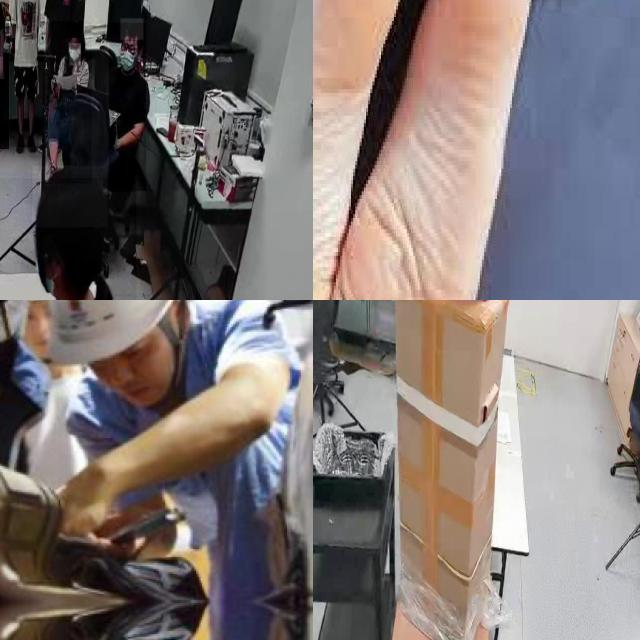Barefoots: (326, 0, 545, 300), (313, 0, 401, 300)
No_Ear-Protection: (174, 300, 192, 336)
No_Glasses: (91, 334, 155, 376)
face_mask: (119, 48, 139, 78), (70, 44, 82, 66)
face_nomask: (102, 350, 175, 407)
hand_glove: (49, 300, 172, 363)
hand_noglove: (62, 462, 107, 534), (54, 83, 62, 99), (48, 77, 56, 91), (9, 38, 15, 54), (0, 56, 4, 79)
head_nohelmet: (32, 166, 108, 228), (120, 18, 144, 41), (66, 21, 84, 39)
person: (0, 178, 137, 300), (50, 21, 92, 184), (109, 22, 147, 192), (9, 0, 44, 148)
shoes: (23, 131, 39, 159), (13, 129, 27, 157), (0, 133, 3, 157)
